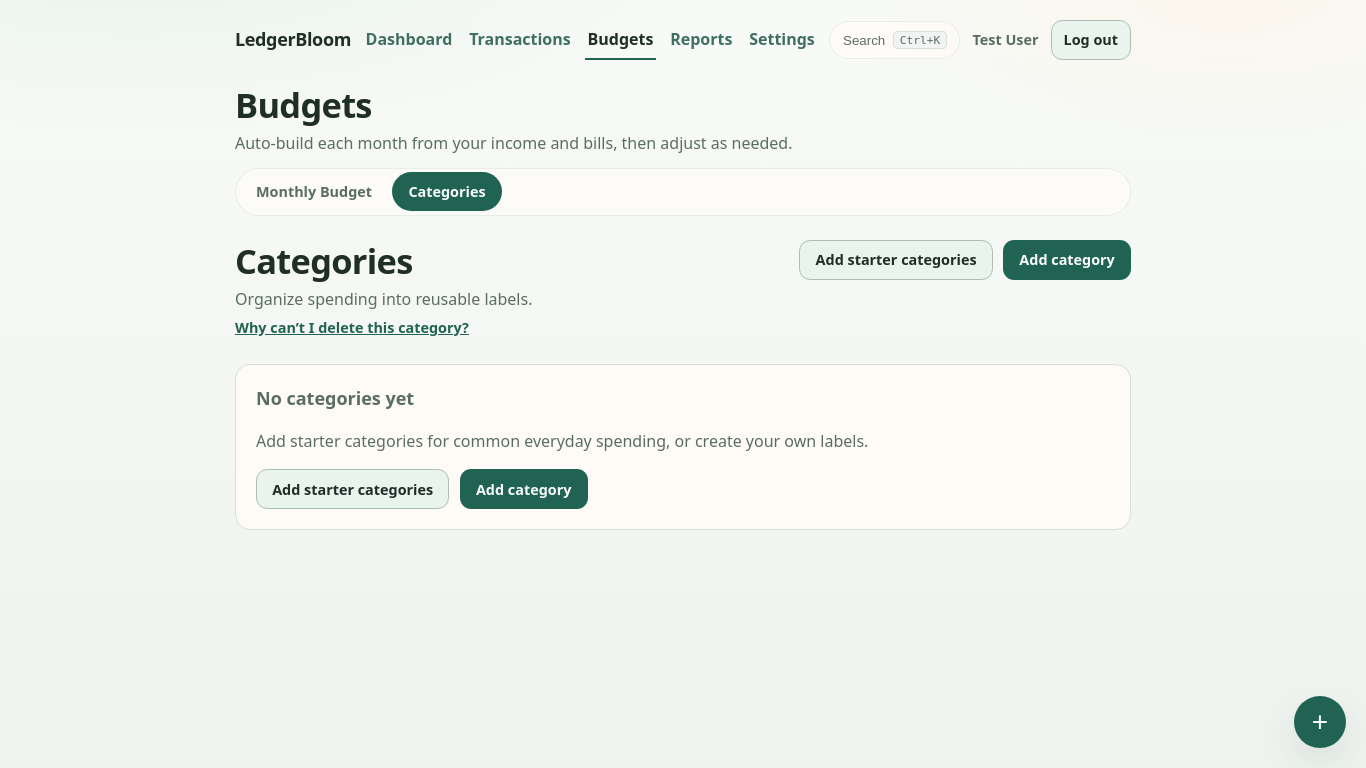
Test case: Category routes › renders Add category from the Categories page
Expected: the heading "Categories" is shown, x1=235 y1=237 x2=413 y2=284
Click the 1st link "Add category": [1067, 260] box x1=1003 y1=240 x2=1131 y2=280
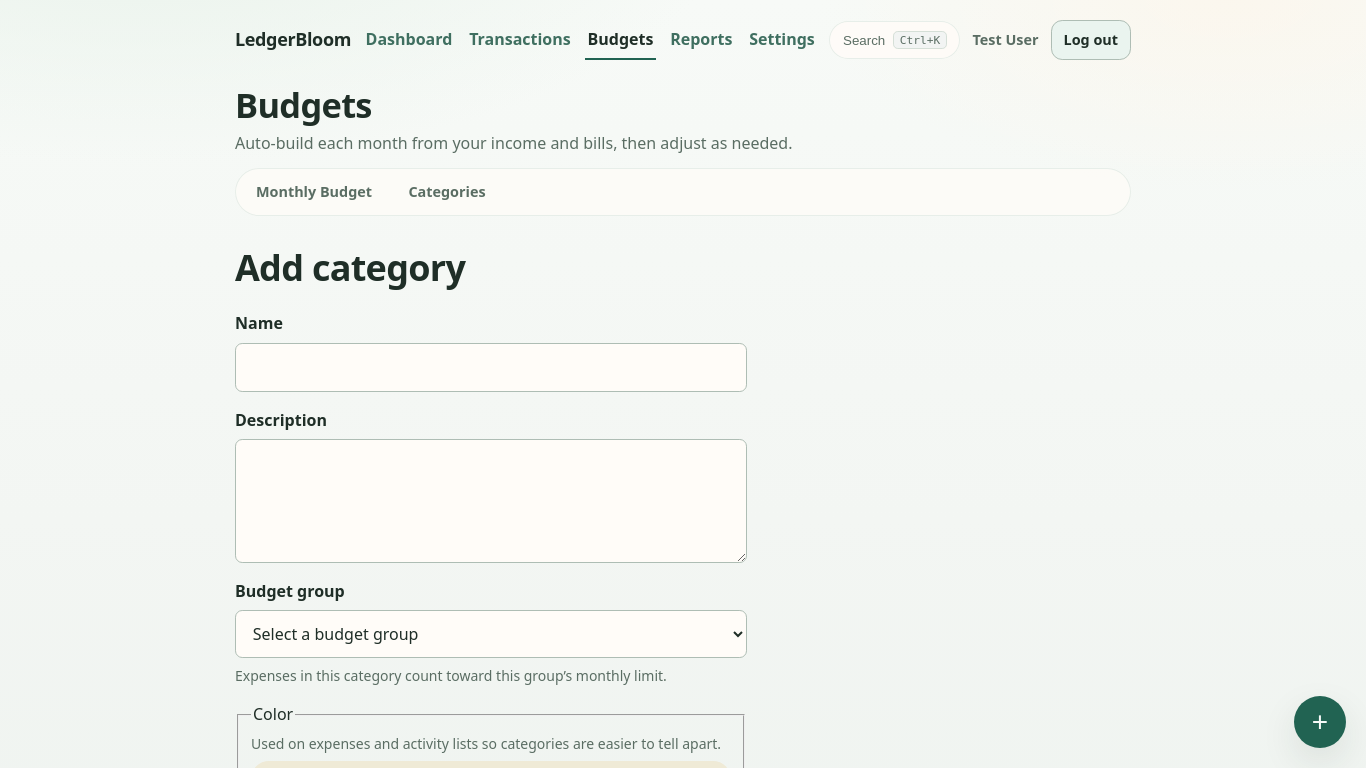
Expected: the heading "Add category" is shown, x1=235 y1=243 x2=465 y2=292
